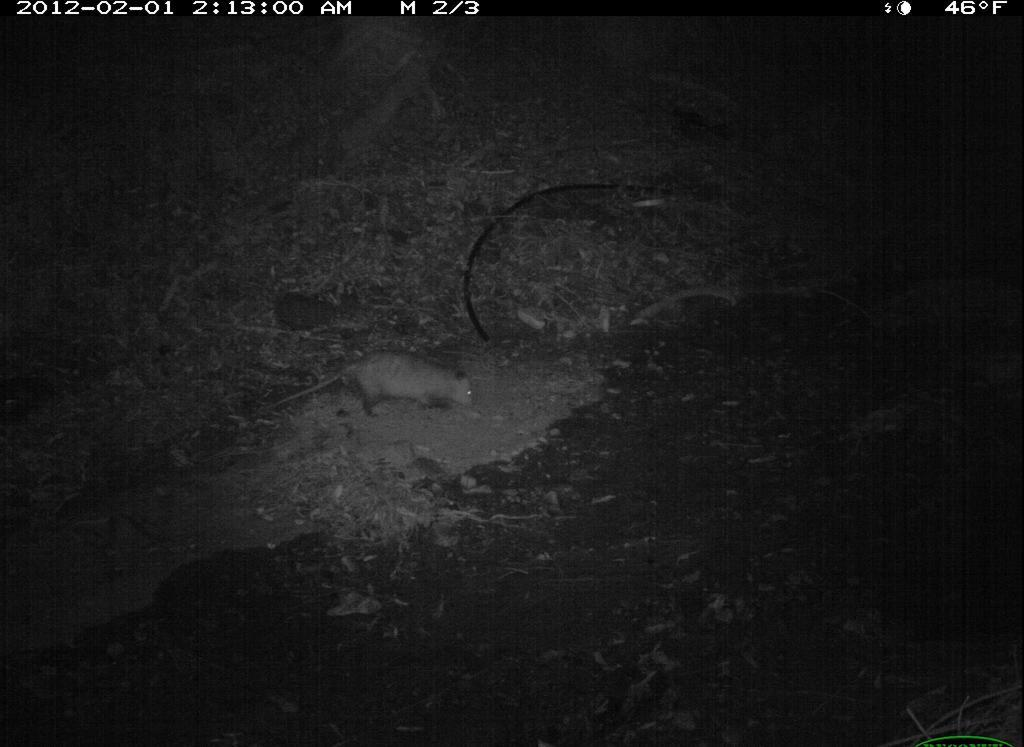opossum: (254, 342, 495, 428)
